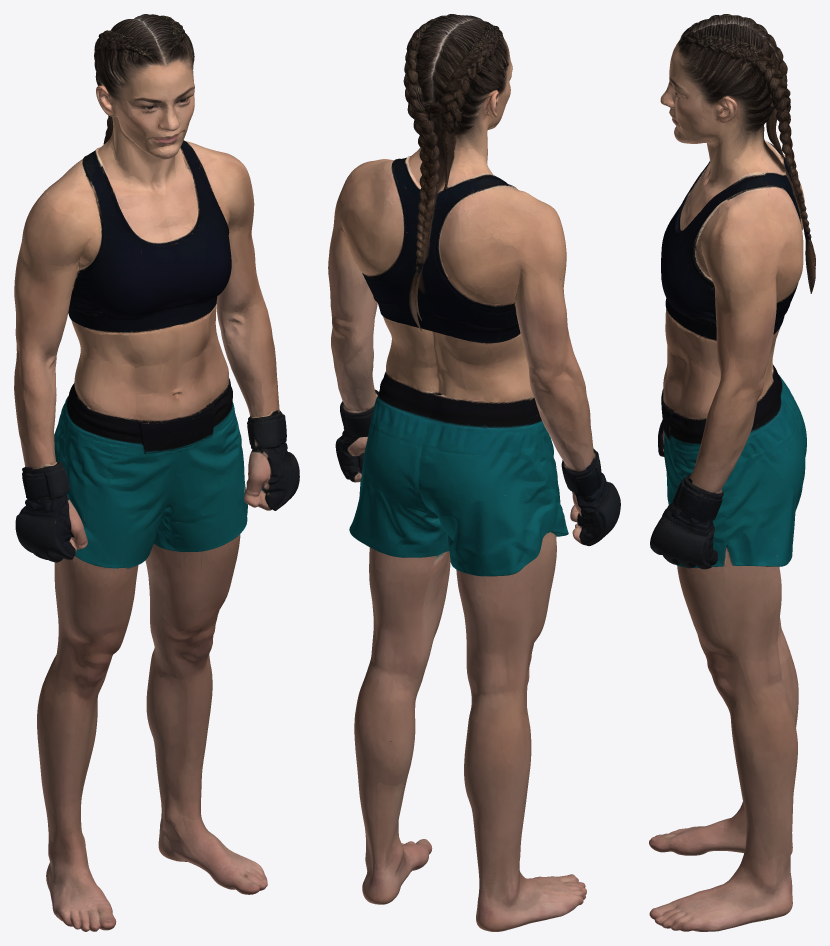
Rendered from demo-mma-women.glb.
3 renders of one model, left to right at view 1: azimuth 30°, elevation 25°; view 2: azimuth 150°, elevation 25°; view 3: azimuth 270°, elevation 25°, orthographic.
Bounding box in the file's own units: 0.6279 × 1.9 × 0.3324.
Materials: 1 (1 with a texture image).
